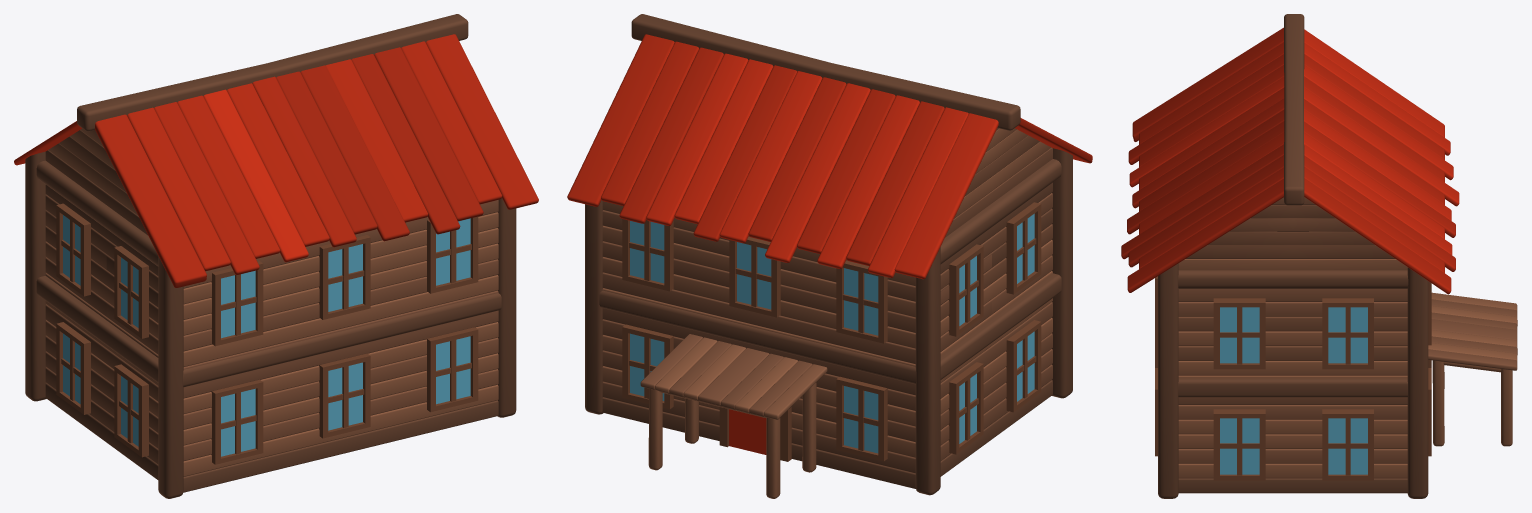
Rendered from Building5.fbx.
3 renders of one model, left to right at view 1: azimuth 30°, elevation 25°; view 2: azimuth 150°, elevation 25°; view 3: azimuth 270°, elevation 25°, orthographic. The views are drawn at different scales.
Visible parts, largest first — view 1: Cube.003; view 2: Cube.003; view 3: Cube.003.
Part boxes in pixels (<box>): Cube.003: <box>14,14,538,498</box>; Cube.003: <box>567,14,1092,498</box>; Cube.003: <box>1121,14,1517,498</box>.
Bounding box in the file's own units: 14.64 × 13.98 × 12.5.
